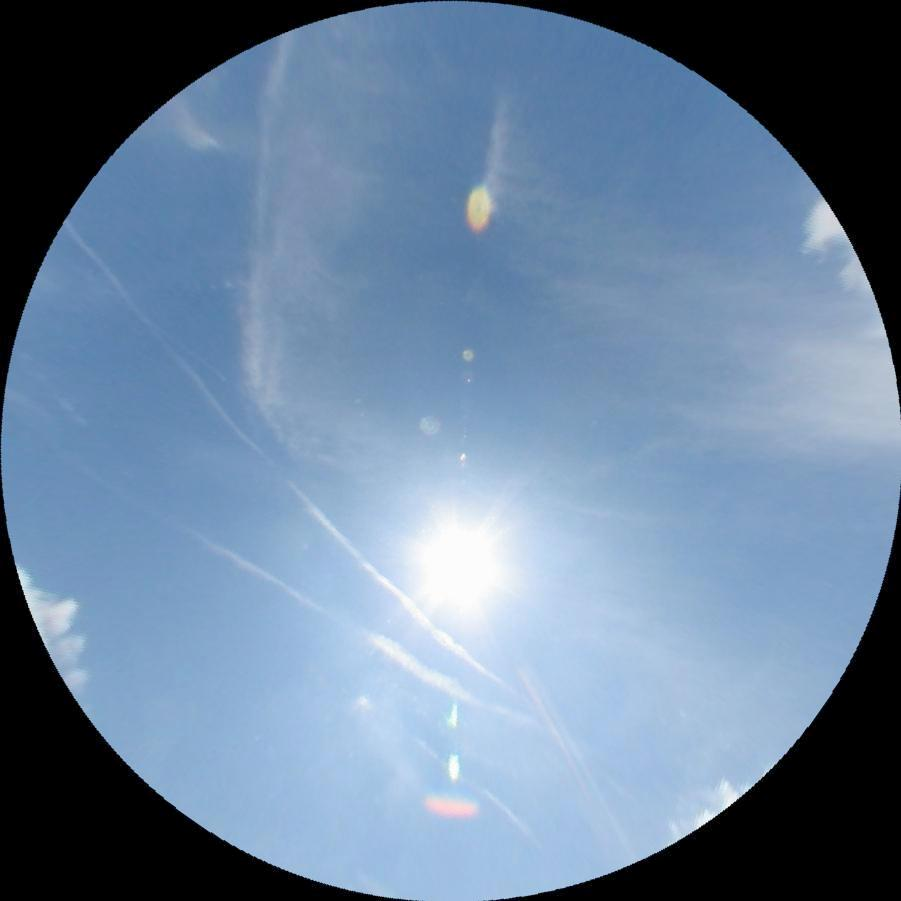contrail veryold: (48, 216, 512, 705), (72, 462, 550, 746)
parasite: (50, 244, 285, 424)
sun: (420, 520, 502, 602)
unknow: (411, 731, 540, 842)
